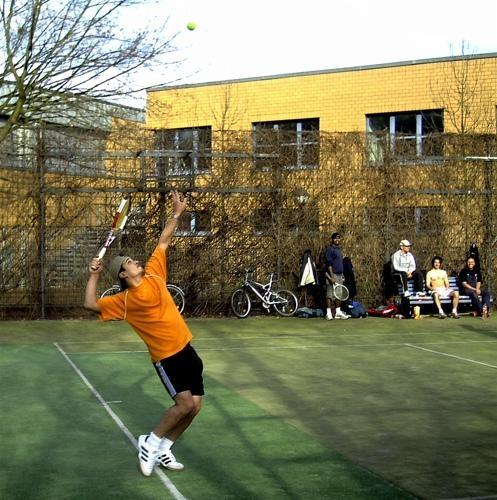bicycle: (231, 268, 298, 318), (100, 284, 186, 314)
